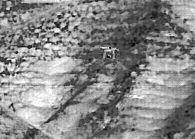Target: (99, 45, 120, 59)
